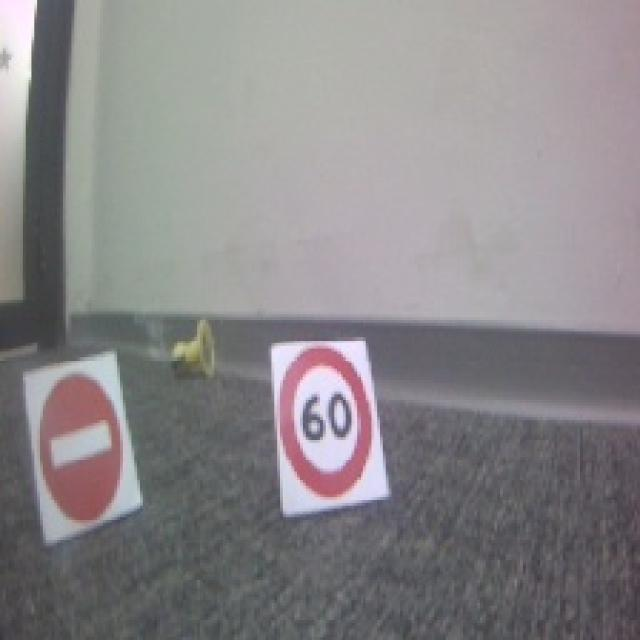DoNotEnterSign: (39, 371, 124, 523)
